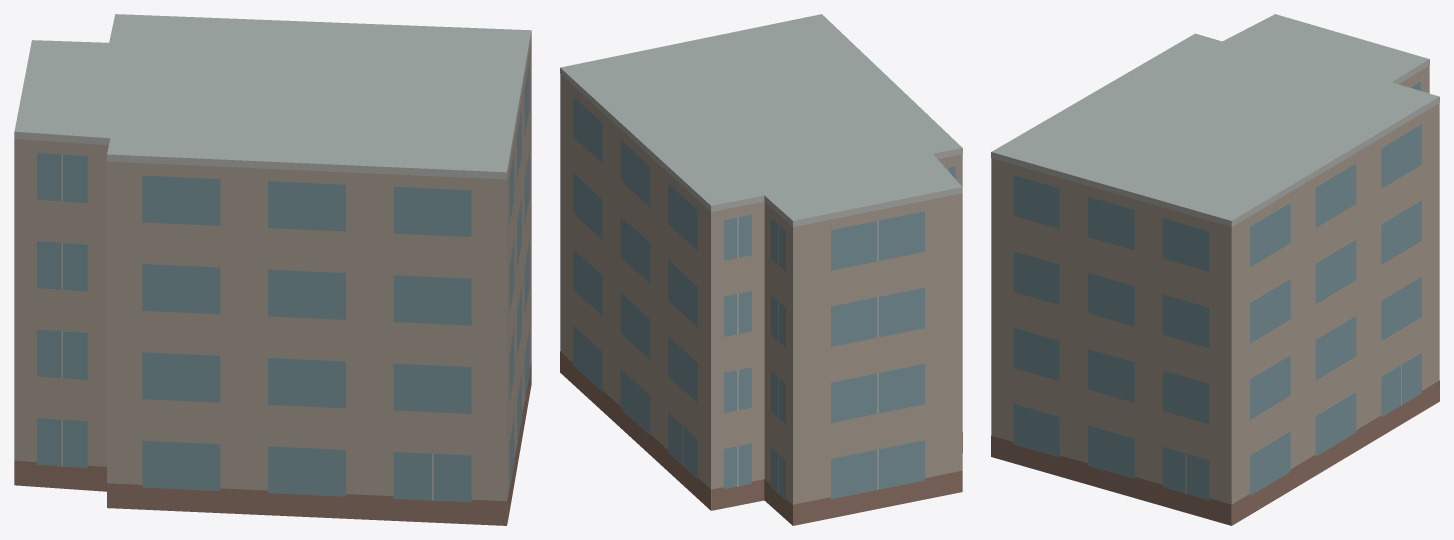
The model's file is survey-upis-33016566.glb.
3 renders of one model, left to right at view 1: azimuth 30°, elevation 25°; view 2: azimuth 150°, elevation 25°; view 3: azimuth 270°, elevation 25°, orthographic. The views are drawn at different scales.
Visible parts, largest first — view 1: survey-upis-33016566.tmp; view 2: survey-upis-33016566.tmp; view 3: survey-upis-33016566.tmp.
Part boxes in pixels (x1=…): survey-upis-33016566.tmp: x1=14, y1=14, x2=531, y2=525; survey-upis-33016566.tmp: x1=560, y1=14, x2=962, y2=525; survey-upis-33016566.tmp: x1=991, y1=14, x2=1439, y2=525.
Bounding box in the file's own units: 17.48 × 12 × 16.01.
